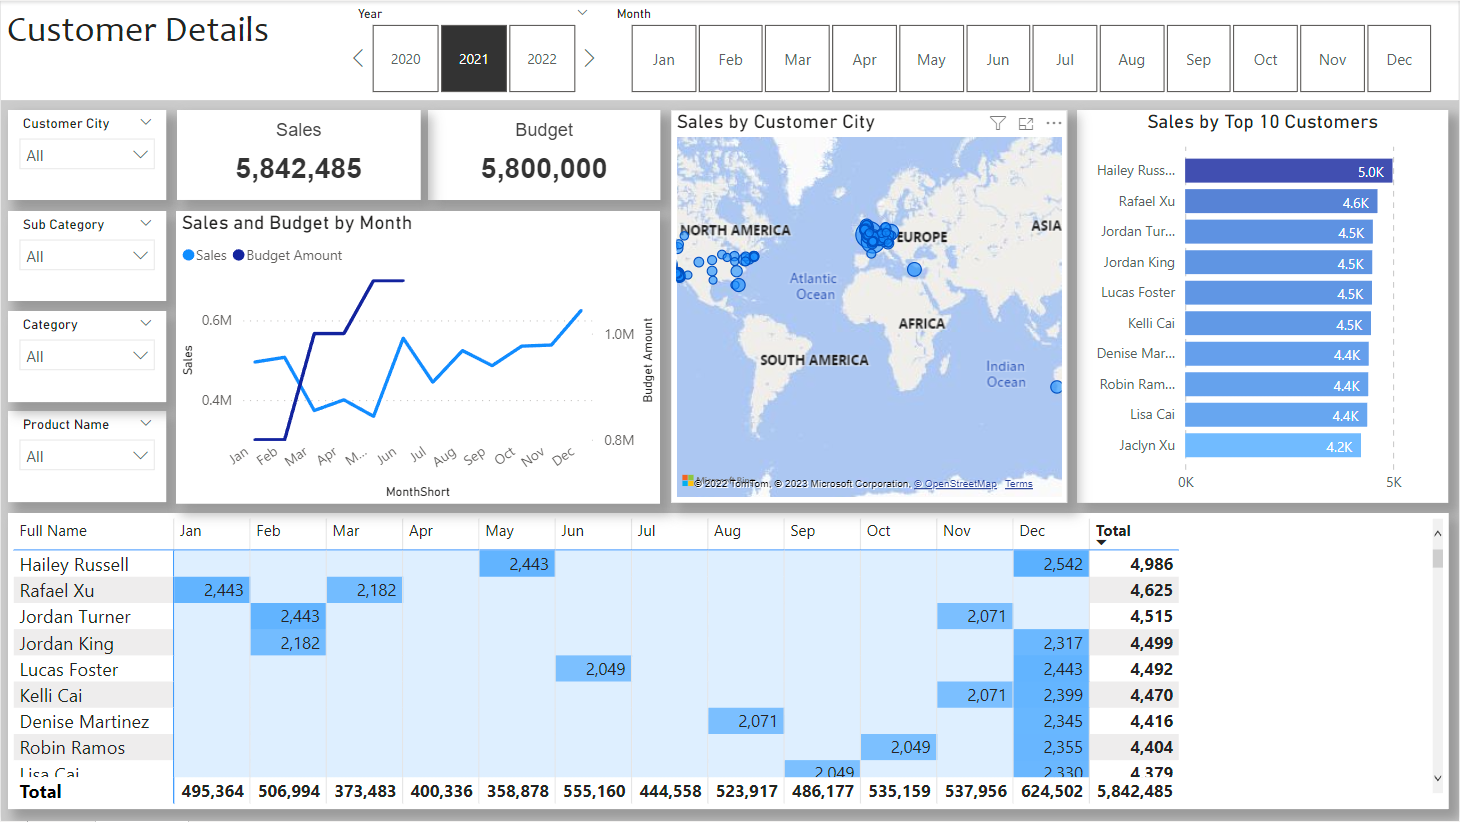

Layout of this report page (visuals, bound fields, positions):
{"tool":"powerbi","page":{"name":"Customer","canvas":[1280,720],"ordinal":1},"visuals":[{"type":"textbox","box":[0,0,1280,87.2],"z":0},{"type":"slicer","fields":{"Values":["DIM_Customer.Customer City"]},"box":[6.3,95.8,139.1,79.5],"z":1000},{"type":"slicer","fields":{"Values":["DIM_Product.Sub Category"]},"box":[6.3,184.3,139.1,79.5],"z":2000},{"type":"slicer","fields":{"Values":["DIM_Product.Product Name"]},"box":[6.3,360.4,139.1,80.4],"z":3000},{"type":"slicer","fields":{"Values":["DIM_Product.Product Category"]},"box":[6.3,271.9,139.1,80.4],"z":4000},{"type":"slicer","fields":{"Values":["DIM_Calendar.Year"]},"box":[299.9,0,227.6,86.7],"z":5000},{"type":"slicer","fields":{"Values":["DIM_Calendar.MonthShort"]},"box":[527.5,0,752.5,86.7],"z":6000},{"type":"barChart","title":"Sales by Top 10 Customers","fields":{"Y":["Sum(FACT_InternetSales.SalesAmount)"],"Category":["DIM_Customer.Full Name"]},"box":[944.9,95.8,326.1,345.1],"z":7000},{"type":"pivotTable","fields":{"Rows":["DIM_Customer.Full Name"],"Values":["Key Measures (2).Sales"],"Columns":["DIM_Calendar.MonthShort"]},"box":[6.3,449.9,1264.6,260.2],"z":8000},{"type":"BBED0A4D4D8D44CE93CF2DAFADEE466C","fields":{"actual":["Key Measures (2).Budget Amount"]},"box":[374.9,95.8,204.1,79.5],"z":9000},{"type":"BBED0A4D4D8D44CE93CF2DAFADEE466C","fields":{"actual":["Key Measures (2).Sales"]},"box":[154.5,95.8,214.1,79.5],"z":10000},{"type":"lineChart","title":"Sales and Budget by Month","fields":{"Y":["Key Measures (2).Sales"],"Y2":["Key Measures (2).Budget Amount"],"Category":["DIM_Calendar.MonthShort"]},"box":[153.6,184.3,425.5,256.5],"z":11000},{"type":"map","fields":{"Category":["DIM_Customer.Customer City"],"Size":["Key Measures (2).Sales"]},"box":[588.1,95.8,347.8,345.1],"z":12000}]}

Visuals, with their boxes in screenshot pixels (x1, y1, x2, y2), scaled from the page's 1280x720 canvas onto the 1460x822 screenshot:
textbox: BBox(0, 0, 1459, 100)
slicer - DIM_Customer.Customer City: BBox(7, 109, 166, 200)
slicer - DIM_Product.Sub Category: BBox(7, 210, 166, 301)
slicer - DIM_Product.Product Name: BBox(7, 411, 166, 503)
slicer - DIM_Product.Product Category: BBox(7, 310, 166, 402)
slicer - DIM_Calendar.Year: BBox(342, 0, 602, 99)
slicer - DIM_Calendar.MonthShort: BBox(602, 0, 1459, 99)
"Sales by Top 10 Customers" barChart: BBox(1078, 109, 1450, 503)
pivotTable - DIM_Customer.Full Name x Key Measures (2).Sales: BBox(7, 514, 1450, 811)
BBED0A4D4D8D44CE93CF2DAFADEE466C - Key Measures (2).Budget Amount: BBox(428, 109, 660, 200)
BBED0A4D4D8D44CE93CF2DAFADEE466C - Key Measures (2).Sales: BBox(176, 109, 420, 200)
"Sales and Budget by Month" lineChart: BBox(175, 210, 661, 503)
map - DIM_Customer.Customer City x Key Measures (2).Sales: BBox(671, 109, 1068, 503)
